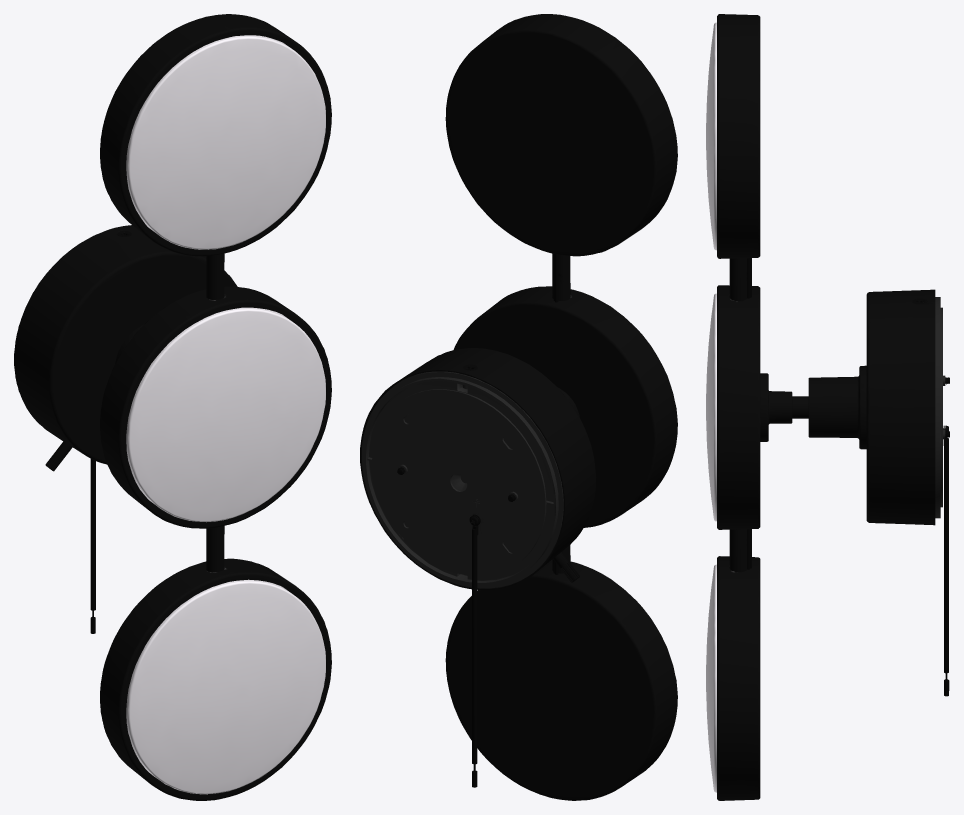
3 views of the same model, side by side, from view 1: azimuth 30°, elevation 25°; view 2: azimuth 150°, elevation 25°; view 3: azimuth 270°, elevation 25° (orthographic).
Visible parts, largest first — view 1: model; view 2: model; view 3: model.
Boxes of the visible parts, x1,y1,x2,y2 form: model: (14, 14, 331, 800); model: (360, 14, 677, 800); model: (706, 14, 949, 800).
Size of the model in its own units: 0.1349 by 0.465 by 0.1345.
Materials: 1 (1 with a texture image).
